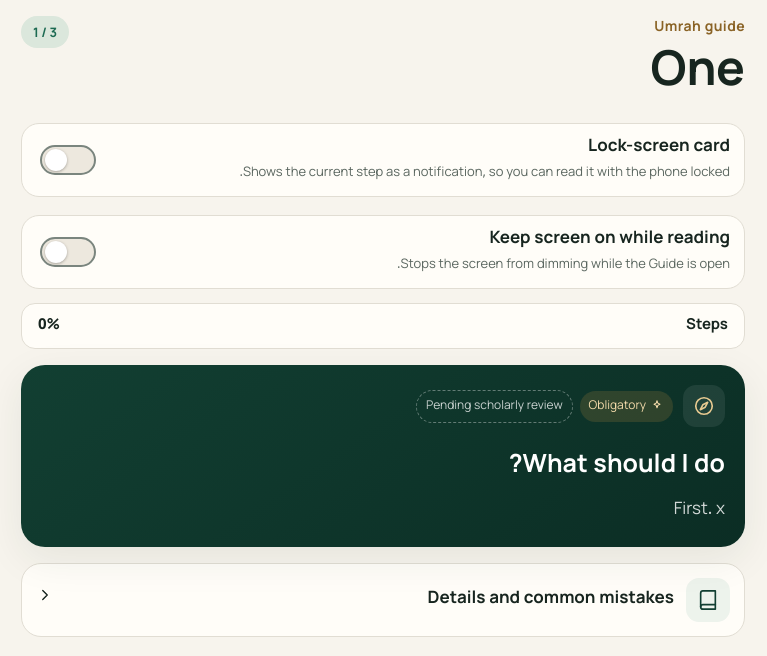
Test: Lock-screen card in the Guide › reports a failure to show, with a way to turn it off
The width and height of the screenshot is (767, 656).
Click the switch in the row of "Lock-screen card".
click(68, 160)  # box left=36, top=136, right=100, bottom=184
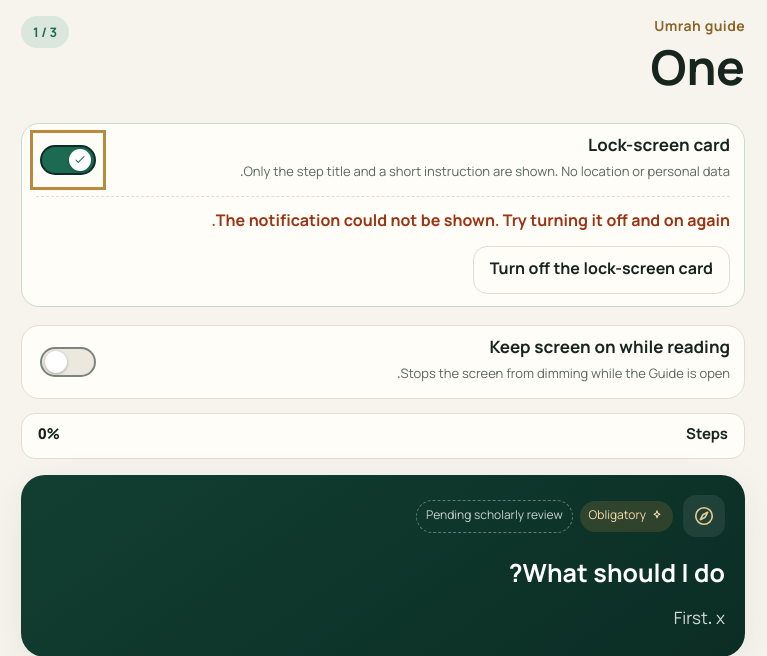
Expected: the message shows "could not be shown", left=212, top=209, right=730, bottom=236
Click the button "Turn off the lock-screen card".
click(601, 270)  # box left=473, top=246, right=730, bottom=294
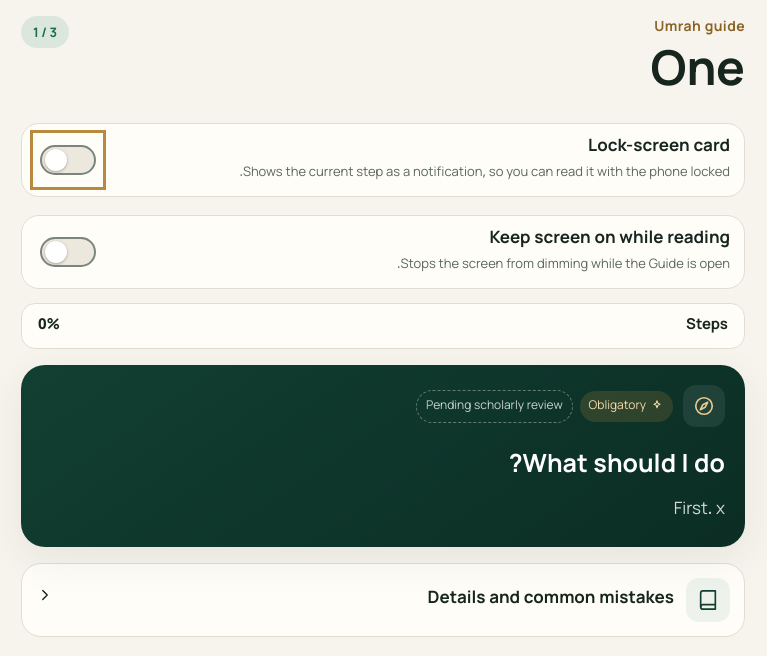
Expected: the message "The notification could not be shown. Try turning it off and on again." is gone
